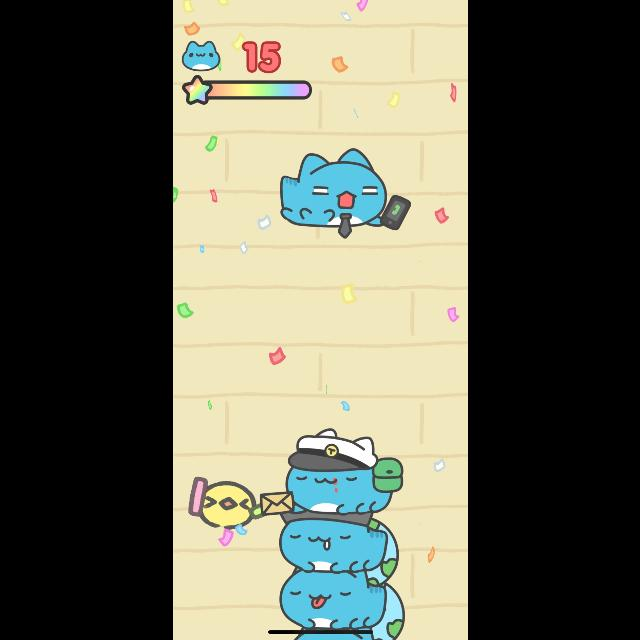capoo: (262, 420, 400, 512), (276, 148, 408, 234), (270, 511, 390, 571), (281, 569, 389, 627)
